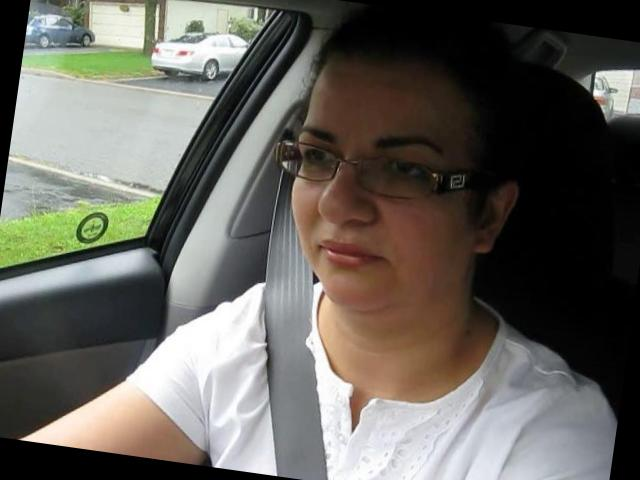eye_open: (369, 150, 446, 196), (294, 140, 338, 177)
face: (272, 91, 481, 326)
